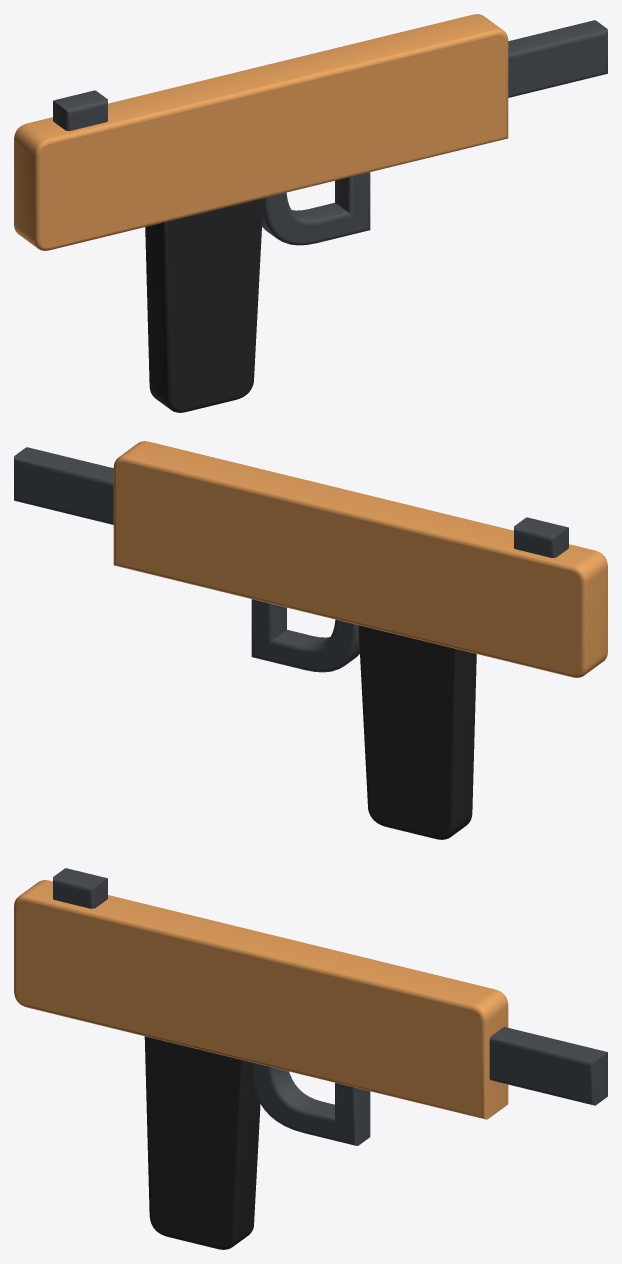
Rendered from mac10.glb.
The picture shows the model from 3 angles, top to bottom: view 1: azimuth 30°, elevation 25°; view 2: azimuth 150°, elevation 25°; view 3: azimuth 330°, elevation 25°; orthographic projection.
Parts seen in each view (by area): view 1: paint_0, poly_1, metal_3, metal_2, metal_4; view 2: paint_0, poly_1, metal_3, metal_2, metal_4; view 3: paint_0, poly_1, metal_3, metal_2, metal_4.
Part boxes in pixels (x1=…): paint_0: x1=14, y1=14, x2=508, y2=250; poly_1: x1=145, y1=198, x2=263, y2=412; metal_3: x1=508, y1=20, x2=607, y2=97; metal_2: x1=262, y1=172, x2=370, y2=245; metal_4: x1=53, y1=90, x2=107, y2=130; paint_0: x1=113, y1=441, x2=607, y2=677; poly_1: x1=358, y1=625, x2=476, y2=839; metal_3: x1=14, y1=447, x2=113, y2=524; metal_2: x1=251, y1=599, x2=359, y2=672; metal_4: x1=514, y1=517, x2=568, y2=557; paint_0: x1=14, y1=880, x2=508, y2=1119; poly_1: x1=144, y1=1036, x2=260, y2=1249; metal_3: x1=489, y1=1027, x2=607, y2=1105; metal_2: x1=251, y1=1062, x2=370, y2=1145; metal_4: x1=53, y1=868, x2=107, y2=908.
Size of the model in its own units: 233 by 127 by 17.16.
